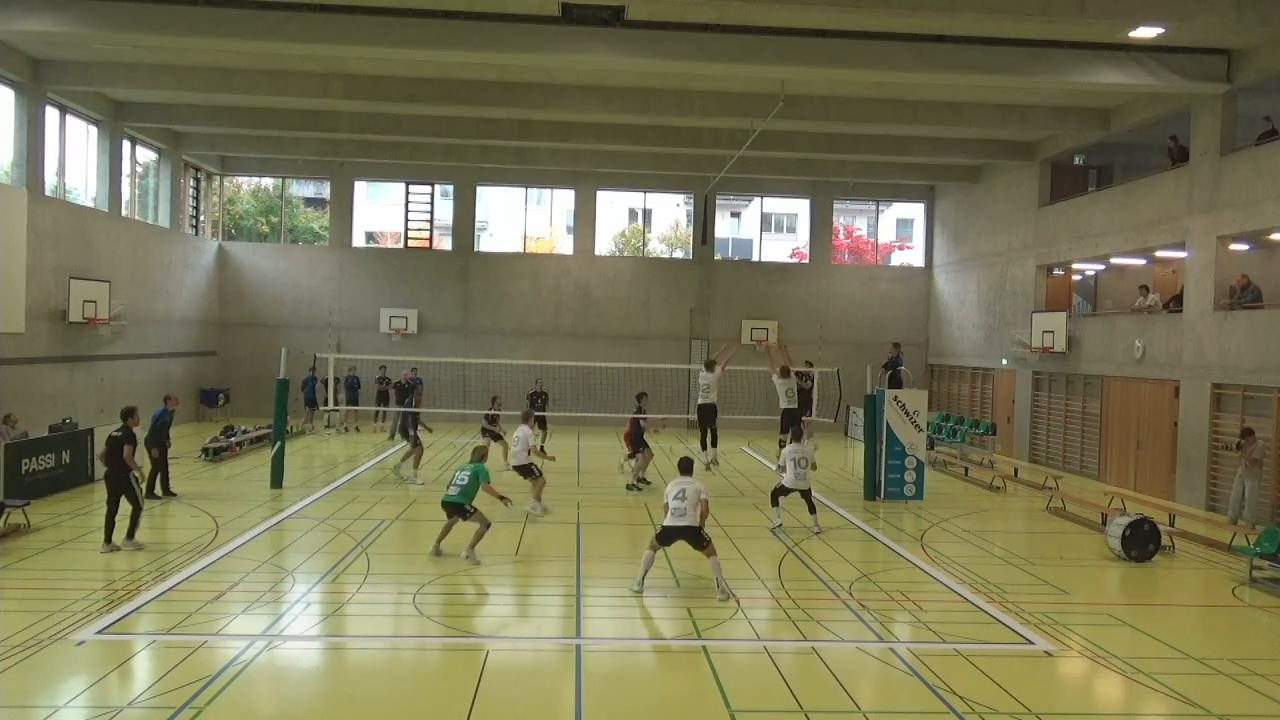attacco: (784, 344, 820, 449)
muro: (691, 337, 732, 474), (761, 335, 799, 477)
